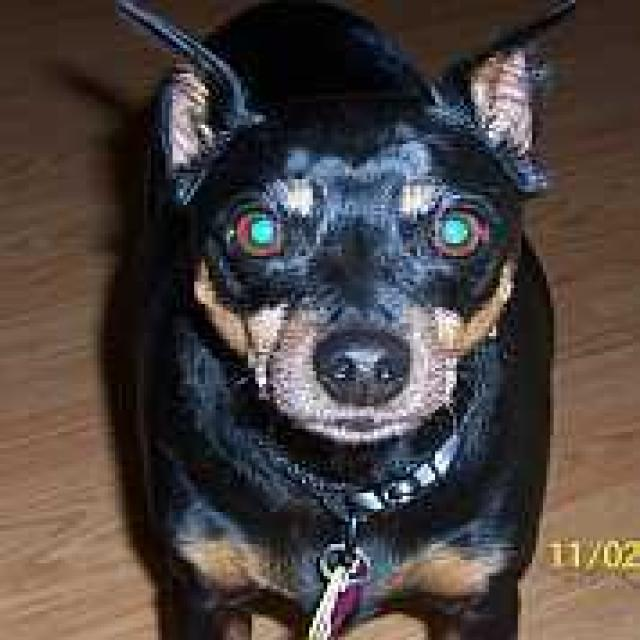Dogs: (93, 0, 579, 637)
